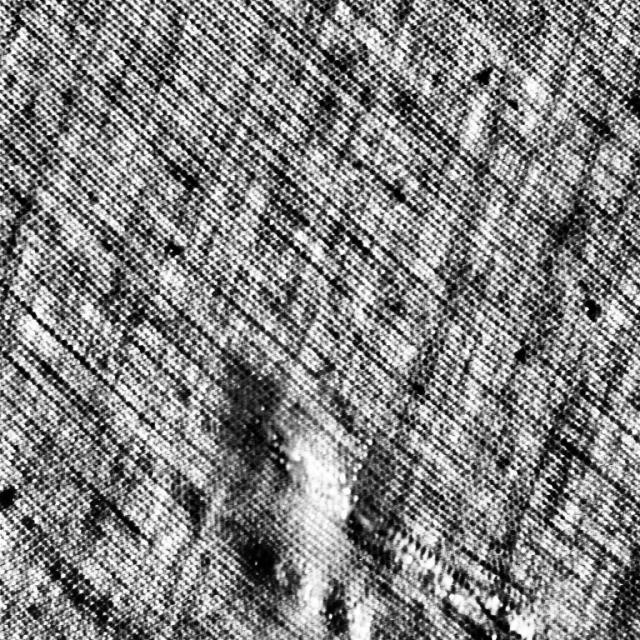Stitch: (196, 358, 629, 640), (212, 515, 424, 640)
